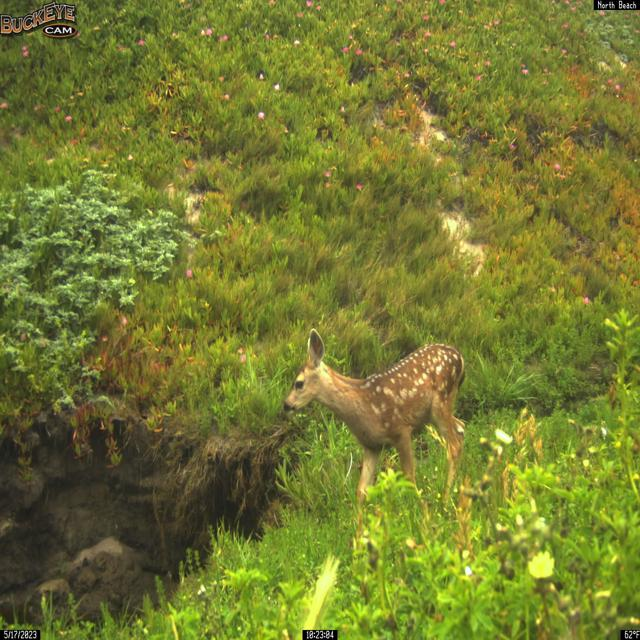deer: (282, 328, 467, 514)
